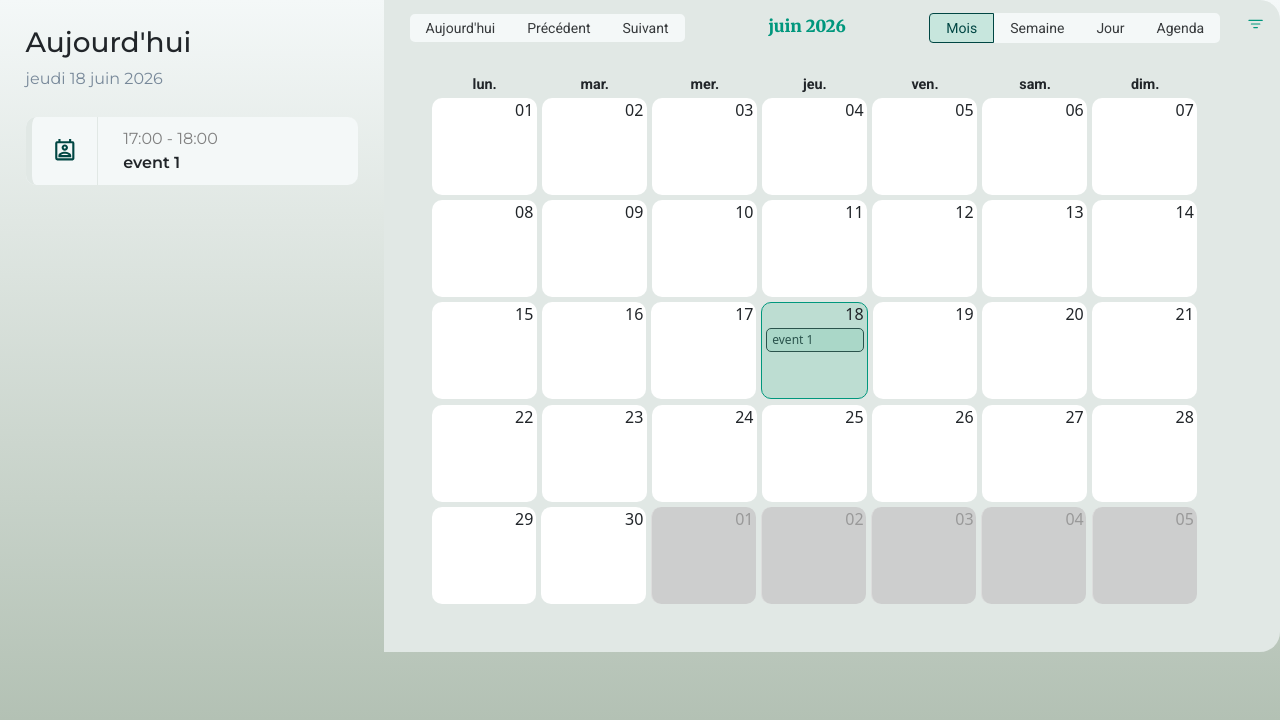
Scenario: Agenda › Should render selected event's private tag when event is private
Click the element with test id "rbcEvent": click(815, 340) [766,328,864,352]
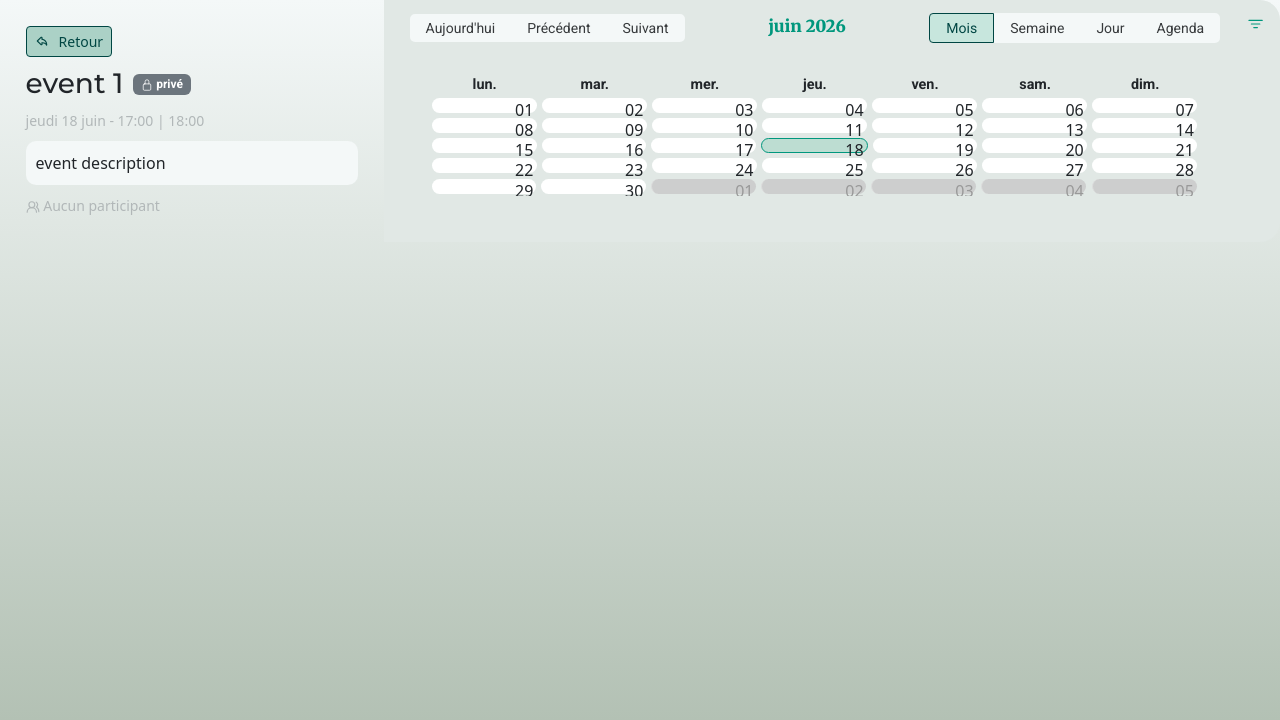
expect the element with test id "selectedEventPrivate" is shown: met, box [133,71,191,95]
expect the element with test id "selectedEventPrivate" reads "privé": met, box [153,77,183,91]
